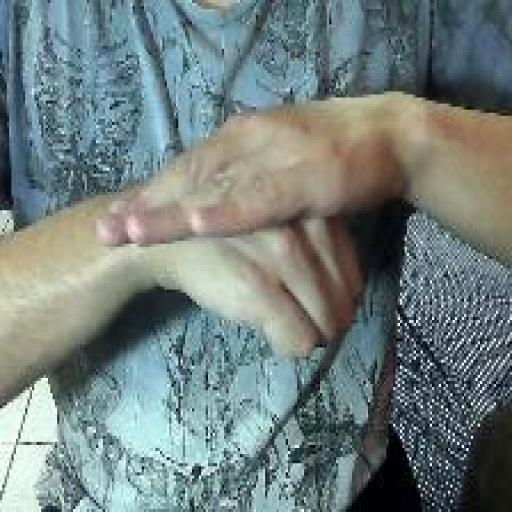Inu -dog-: (94, 100, 368, 366)
